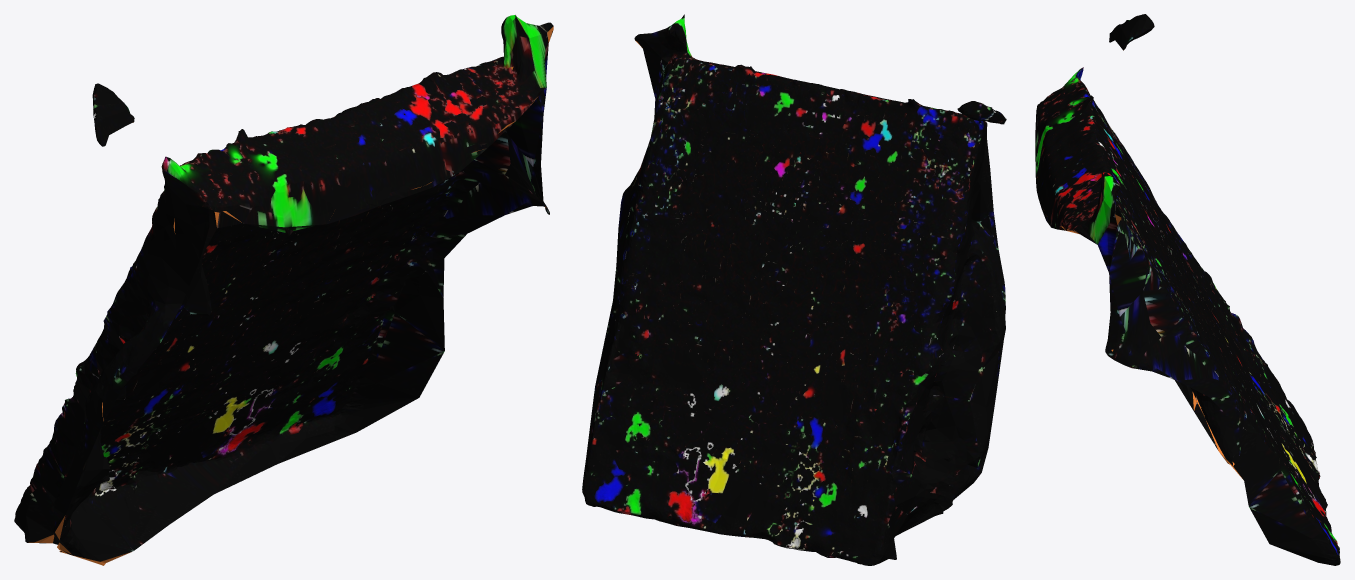
The picture shows the model from 3 angles, left to right: view 1: azimuth 30°, elevation 25°; view 2: azimuth 150°, elevation 25°; view 3: azimuth 270°, elevation 25°; orthographic projection. The views are drawn at different scales.
Parts seen in each view (by area): view 1: scene_textured; view 2: scene_textured; view 3: scene_textured.
Part boxes in pixels (x1,y1,x2,y2): scene_textured: [14, 15, 553, 565]; scene_textured: [582, 14, 1006, 565]; scene_textured: [1035, 14, 1340, 565].
Size of the model in its own units: 1.31 by 1.43 by 0.921.
1 material, 1 textured.
